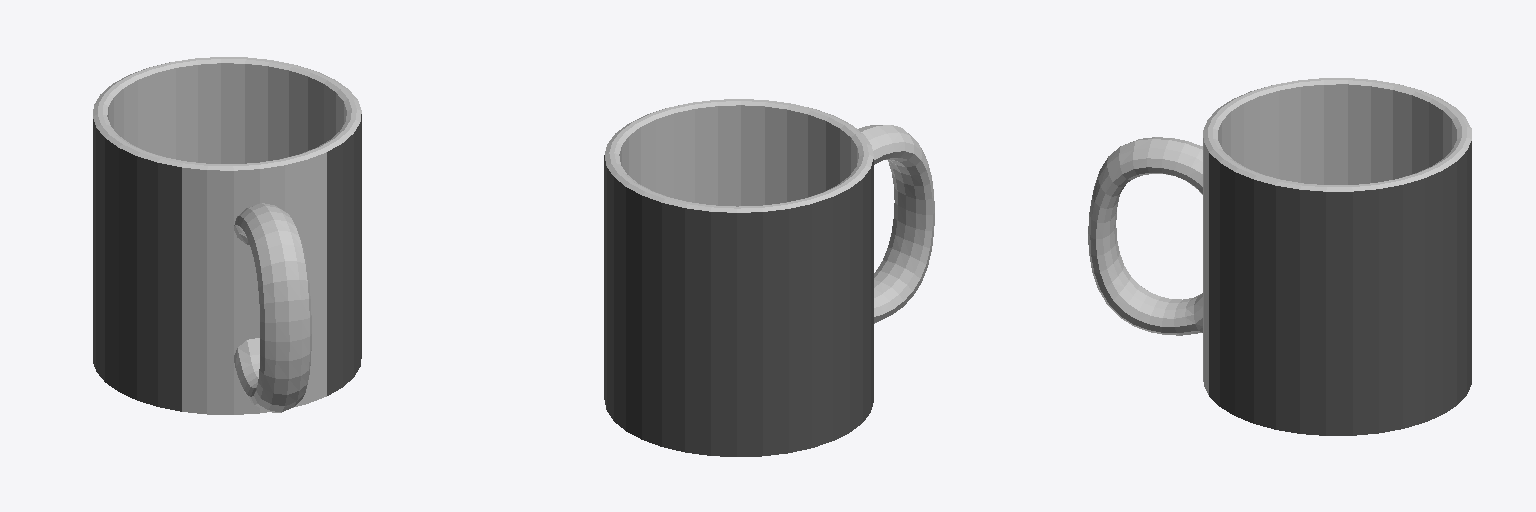
The model's file is CANECA.obj.
3 renders of one model, left to right at view 1: azimuth 30°, elevation 25°; view 2: azimuth 150°, elevation 25°; view 3: azimuth 270°, elevation 25°, orthographic.
Visible parts, largest first — view 1: Torus; view 2: Torus; view 3: Torus.
Boxes of the visible parts, x1,y1,x2,y2 form: Torus: [93, 57, 361, 414]; Torus: [604, 99, 934, 456]; Torus: [1088, 78, 1471, 435].
Size of the model in its own units: 1.99 by 2.02 by 2.85.